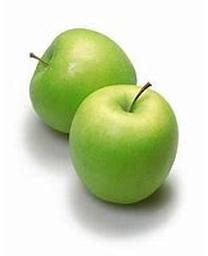apple: (67, 82, 178, 204), (27, 27, 136, 134)
